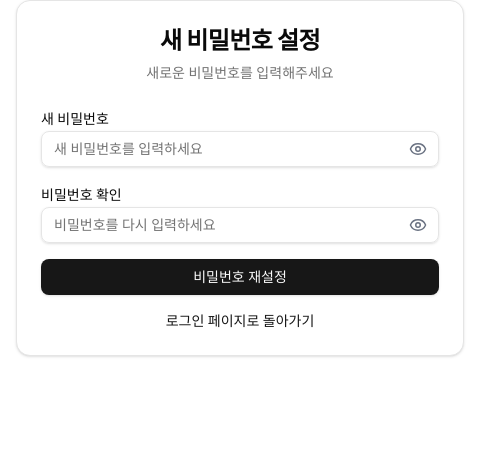
ResetPasswordForm › displays error message on failure
Type "NewPassword123" into the password field labelled "새 비밀번호". click: (240, 149)
box: 41,131 -> 439,167
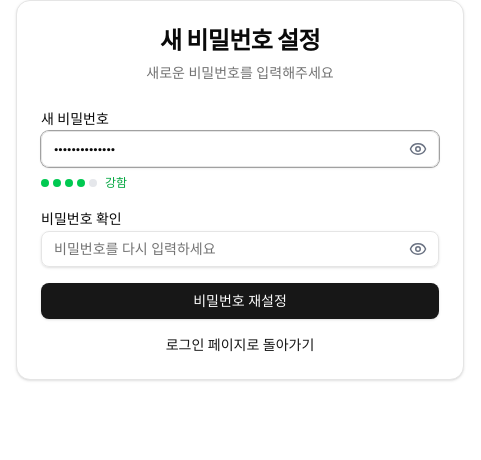
Type "NewPassword123" into the password field labelled "비밀번호 확인". click: (240, 249)
box: 41,231 -> 439,267
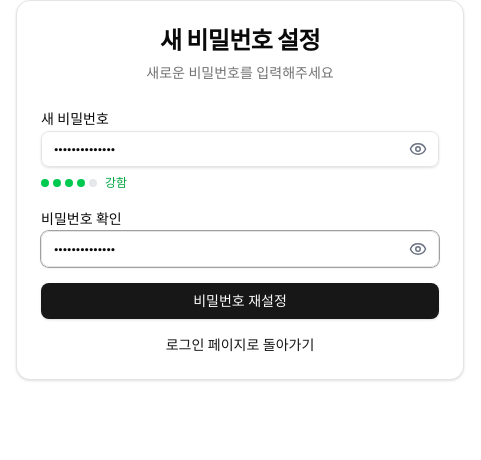
Click the button "비밀번호 재설정". click: (240, 301)
box: 41,283 -> 439,319
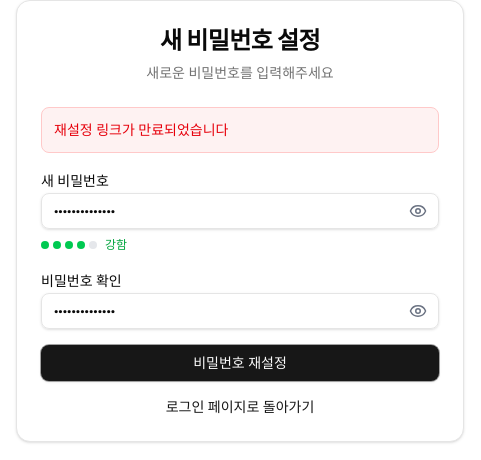
Now the text "재설정 링크가 만료되었습니다" is shown, box 41,107 -> 439,153
